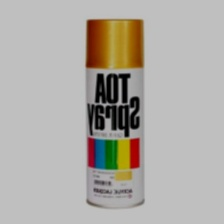aerosol_cans: (80, 13, 149, 212)
